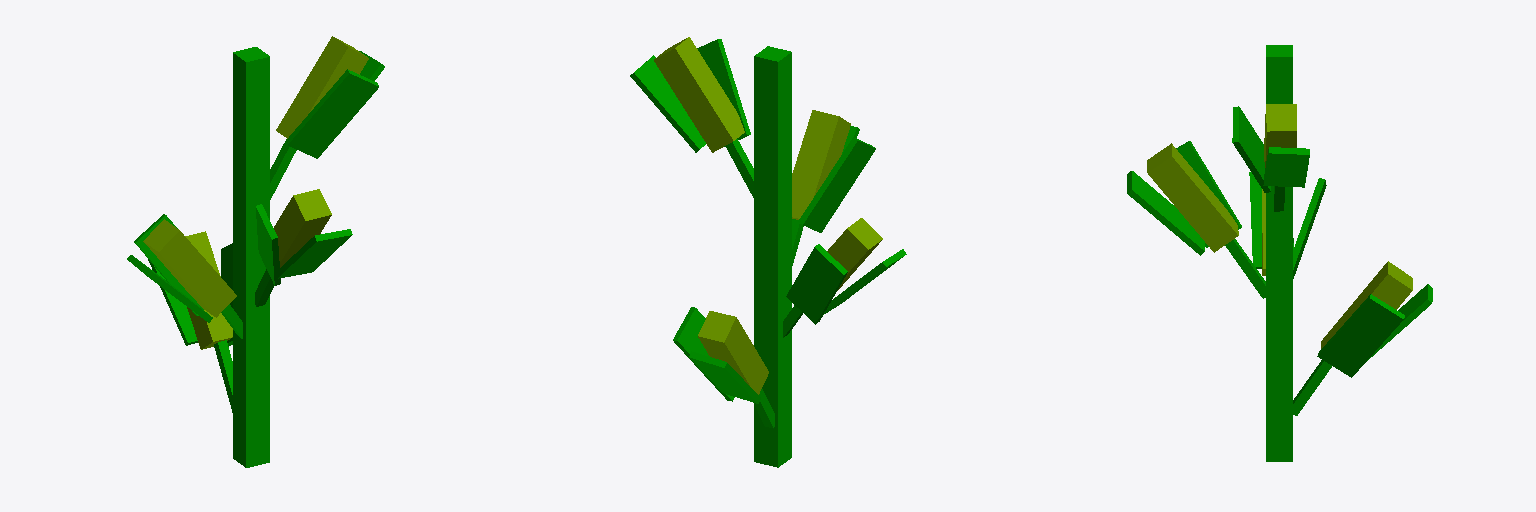
File: corn2.obj
3 renders of one model, left to right at view 1: azimuth 30°, elevation 25°; view 2: azimuth 150°, elevation 25°; view 3: azimuth 270°, elevation 25°, orthographic.
Visible parts, largest first — view 1: Cube, Cube.007, Cube.012, Cube.013, Cube.003_Cube.016, Cube.005_Cube.018, Cube.015_Cube.021, Cube.004_Cube.017, Cube.006_Cube.019, Cube.009, Cube.010, Cube.016_Cube.022 (+1 smaller); view 2: Cube, Cube.013, Cube.003_Cube.016, Cube.015_Cube.021, Cube.004_Cube.017, Cube.009, Cube.011, Cube.007, Cube.006_Cube.019, Cube.012, Cube.008_Cube.020, Cube.010 (+1 smaller); view 3: Cube, Cube.003_Cube.016, Cube.008_Cube.020, Cube.005_Cube.018, Cube.015_Cube.021, Cube.011, Cube.012, Cube.013, Cube.010, Cube.004_Cube.017, Cube.009, Cube.006_Cube.019 (+2 smaller).
Part boxes in pixels (x1,y1,x2,y2): Cube: (233,47,269,467); Cube.007: (143,219,236,317); Cube.012: (285,69,378,158); Cube.013: (276,36,368,138); Cube.003_Cube.016: (274,189,331,267); Cube.005_Cube.018: (278,229,352,278); Cube.015_Cube.021: (185,231,232,349); Cube.004_Cube.017: (256,204,280,285); Cube.006_Cube.019: (148,259,197,345); Cube.009: (134,214,203,315); Cube.010: (127,255,212,322); Cube.016_Cube.022: (214,340,232,412); Cube: (754,46,791,467); Cube.013: (654,37,744,152); Cube.003_Cube.016: (792,110,850,219); Cube.015_Cube.021: (698,311,768,394); Cube.004_Cube.017: (798,137,875,232); Cube.009: (786,244,847,324); Cube.011: (630,55,705,152); Cube.007: (827,218,882,290); Cube.006_Cube.019: (689,351,760,403); Cube.012: (697,39,750,146); Cube.008_Cube.020: (673,307,734,401); Cube.010: (822,249,906,315); Cube: (1266,45,1292,461); Cube.003_Cube.016: (1147,143,1238,252); Cube.008_Cube.020: (1317,294,1404,377); Cube.005_Cube.018: (1127,171,1204,255); Cube.015_Cube.021: (1321,261,1412,348); Cube.011: (1263,147,1309,187); Cube.012: (1232,106,1270,192); Cube.013: (1264,104,1296,167); Cube.010: (1249,172,1293,268); Cube.004_Cube.017: (1176,141,1241,247); Cube.009: (1293,178,1326,278); Cube.006_Cube.019: (1367,284,1432,360).
Bounding box in the file's own units: 2.4 × 3.76 × 2.57.